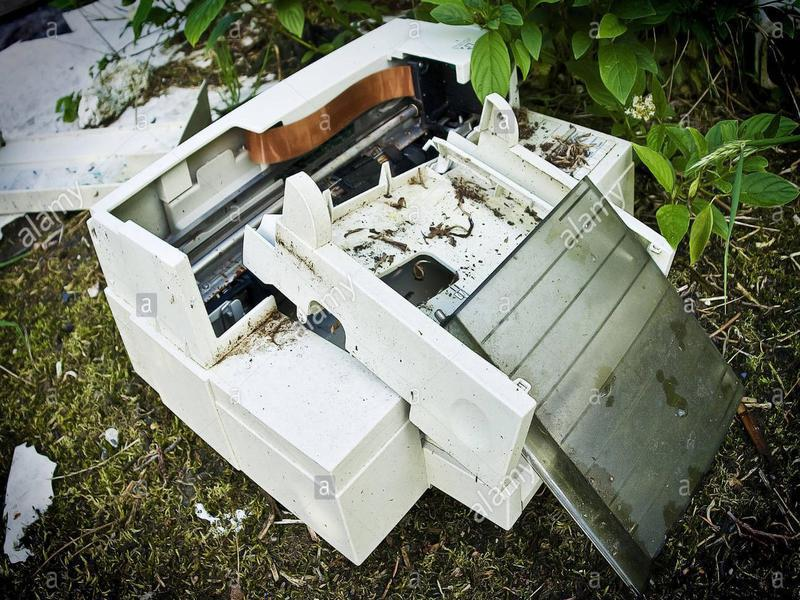printer: (83, 16, 688, 567)
